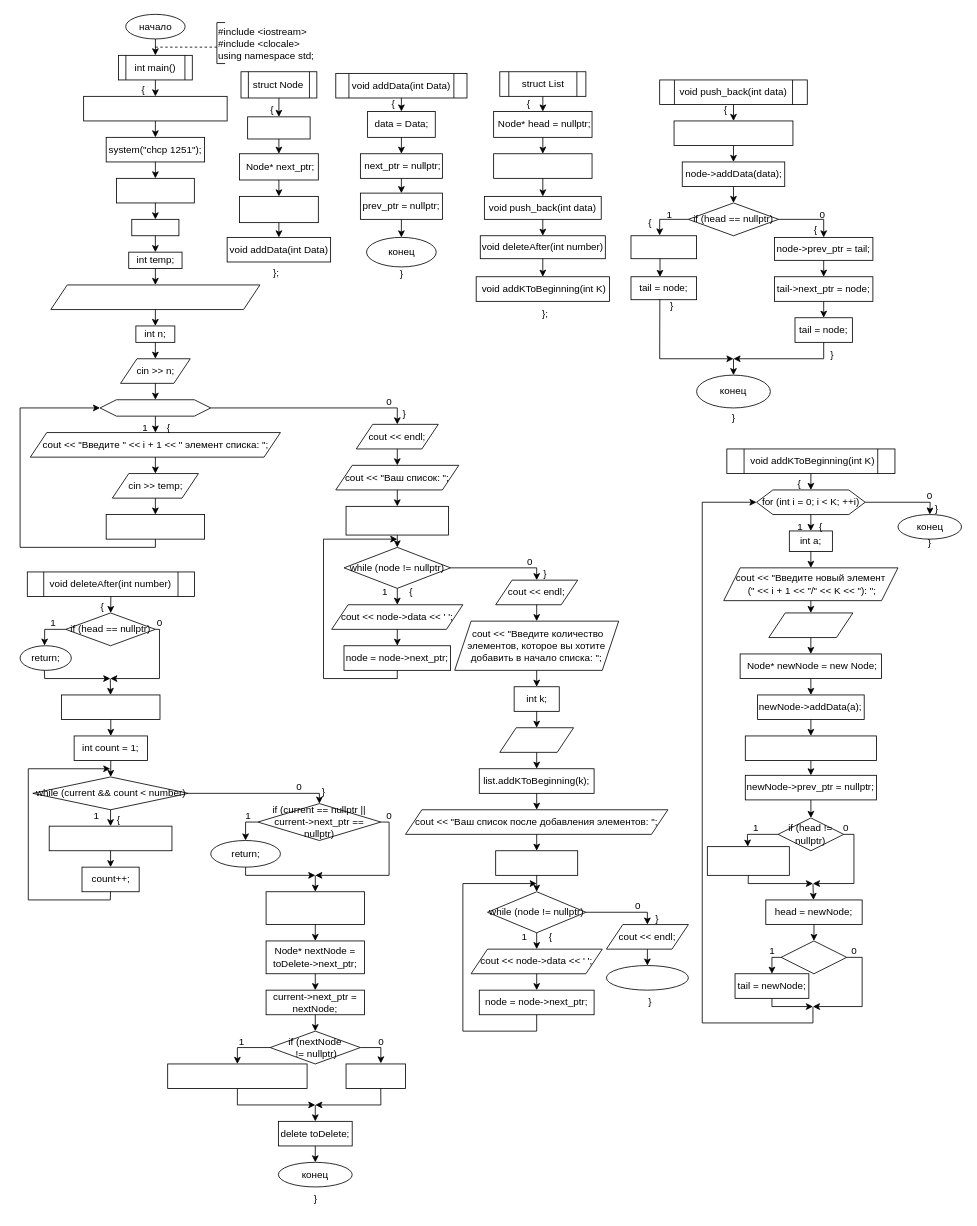
This 977x1226 diagram has some shape labels left out. Here are the shapes that lost their labels. From the top down, the centre of each, then its label:
point 155,108: setlocale(LC_ALL, "Russian");
point 278,127: int data;
point 733,133: Node* node = new Node;
point 542,165: Node* tail = nullptr;
point 155,190: system("cls");
point 278,209: Node* prev_ptr;
point 155,227: List list;
point 663,247: head = node;
point 155,297: cout << "Введите размерность списка: ";
point 155,407: for (int i = 0; i < n; ++i)
point 155,526: list.push_back(temp);
point 397,520: Node* node = list.head;
point 810,625: cin >> a;
point 110,707: Node* current = head;
point 536,739: cin >> k;
point 810,748: newNode->next_ptr = head;
point 110,838: current = current->next_ptr;
point 536,862: node = list.head;
point 748,860: head->prev_ptr = newNode;
point 314,908: Node* toDelete = current->next_ptr;
point 647,977: return 0;
point 813,957: if (tail == nullptr)
point 237,1076: nextNode->prev_ptr = current;
point 375,1076: tail = current;
